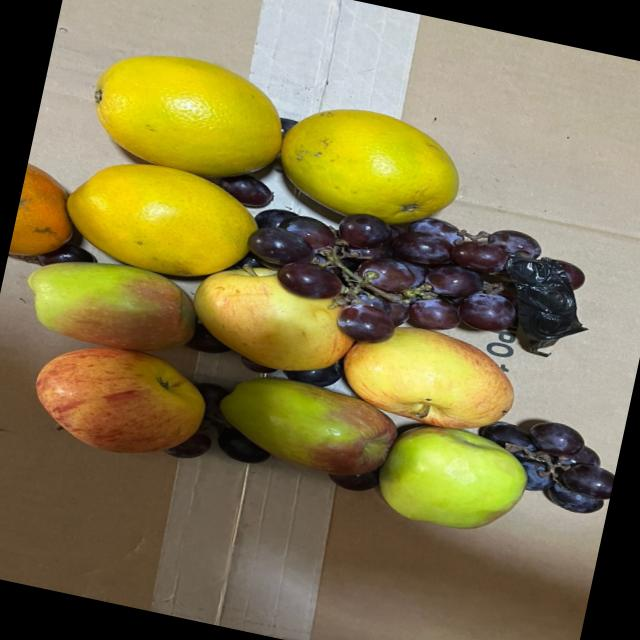bolsa_negra: (494, 254, 594, 365)
